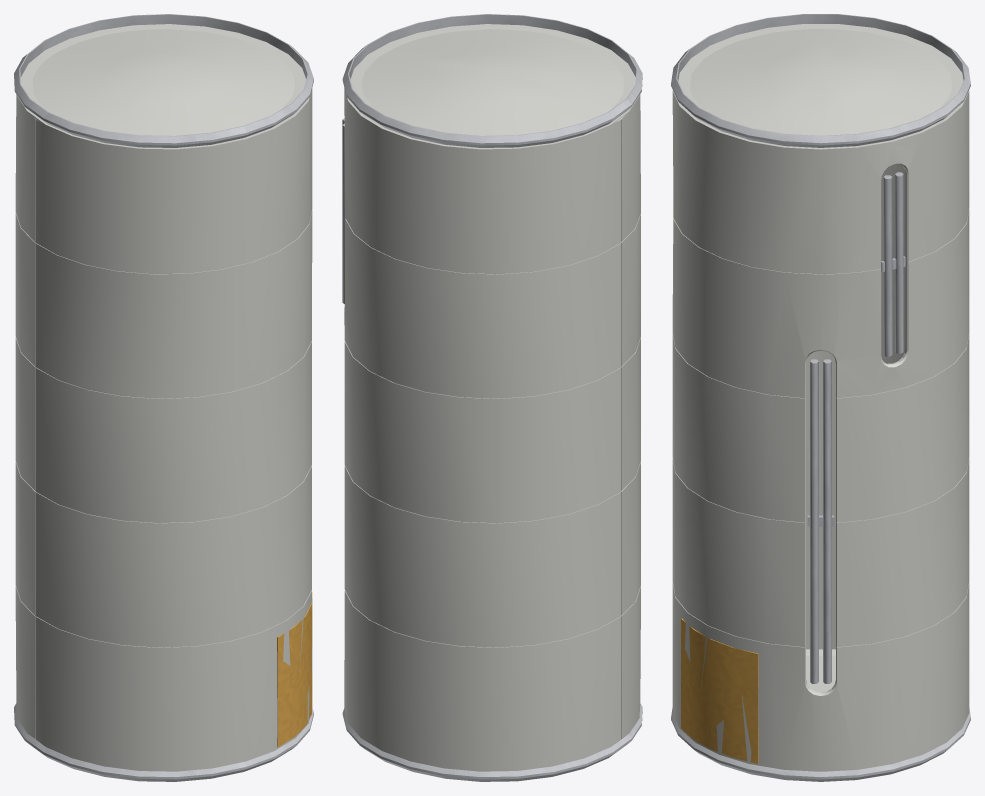
File: ax_tank_01_modern_methalox_l_long.glb
The picture shows the model from 3 angles, left to right: view 1: azimuth 30°, elevation 25°; view 2: azimuth 150°, elevation 25°; view 3: azimuth 270°, elevation 25°; orthographic projection.
Parts seen in each view (by area): view 1: tank_barrel, dome_caps, end_rings, mli_patch; view 2: tank_barrel, dome_caps, end_rings, raceway_lines; view 3: tank_barrel, dome_caps, end_rings, raceway_lines, mli_patch.
Boxes of the visible parts, x1,y1,x2,y2 form: tank_barrel: [15, 88, 312, 771]; dome_caps: [20, 24, 306, 135]; end_rings: [14, 14, 313, 781]; mli_patch: [277, 592, 312, 747]; tank_barrel: [344, 88, 640, 771]; dome_caps: [350, 24, 635, 135]; end_rings: [342, 14, 642, 781]; raceway_lines: [342, 118, 345, 303]; tank_barrel: [672, 90, 969, 771]; dome_caps: [678, 24, 963, 691]; end_rings: [671, 14, 970, 781]; raceway_lines: [807, 172, 905, 683]; mli_patch: [681, 618, 758, 763].
Size of the model in its own units: 3.79 by 9.15 by 3.79.
Materials: 3 (2 with a texture image).
